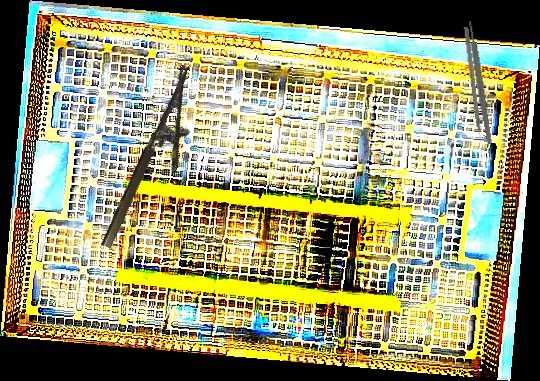Hook Surgical: (462, 26, 483, 146)
Needle Holder: (99, 64, 218, 261)
Scalpel Handle: (466, 20, 494, 145)
